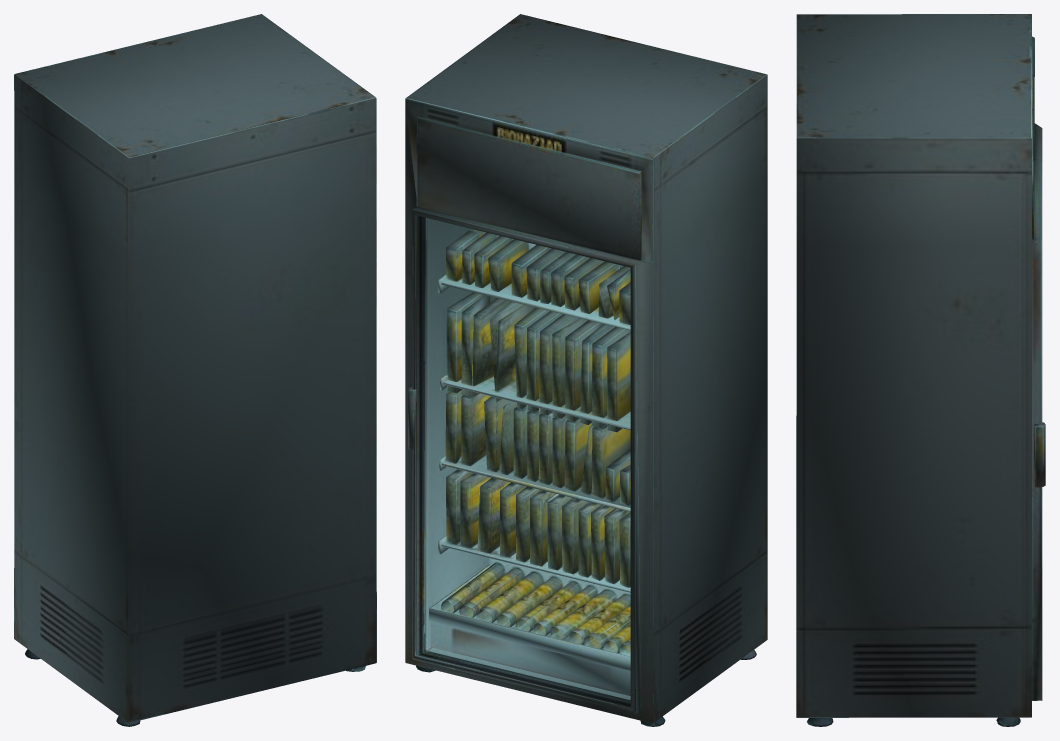
Rendered from office-biohazard-fridge.glb.
3 views of the same model, side by side, from view 1: azimuth 30°, elevation 25°; view 2: azimuth 150°, elevation 25°; view 3: azimuth 270°, elevation 25° (orthographic). The views are drawn at different scales.
Visible parts, largest first — view 1: biohazard-fridge; view 2: biohazard-fridge; view 3: biohazard-fridge.
Boxes of the visible parts, x1,y1,x2,y2 form: biohazard-fridge: (14, 14, 376, 726); biohazard-fridge: (405, 14, 767, 726); biohazard-fridge: (796, 14, 1045, 726).
Bounding box in the file's own units: 0.902 × 2 × 0.7665.
1 material, 1 textured.
